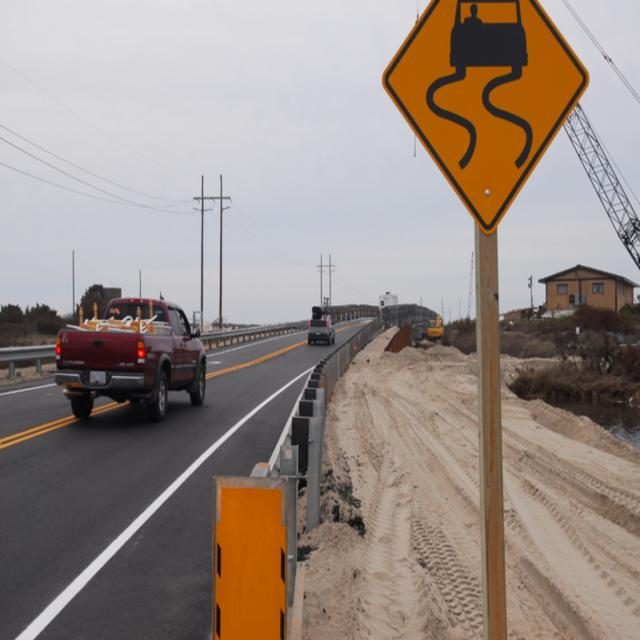car: (54, 295, 206, 419), (307, 319, 334, 346)
